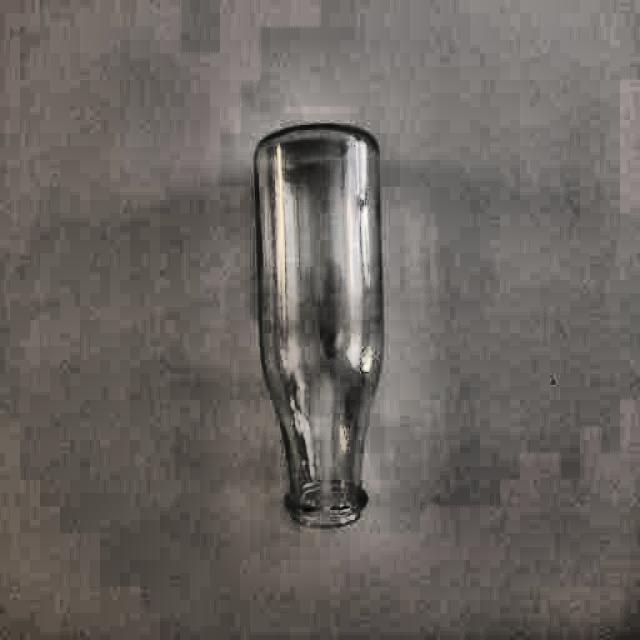glass: (249, 120, 393, 526)
